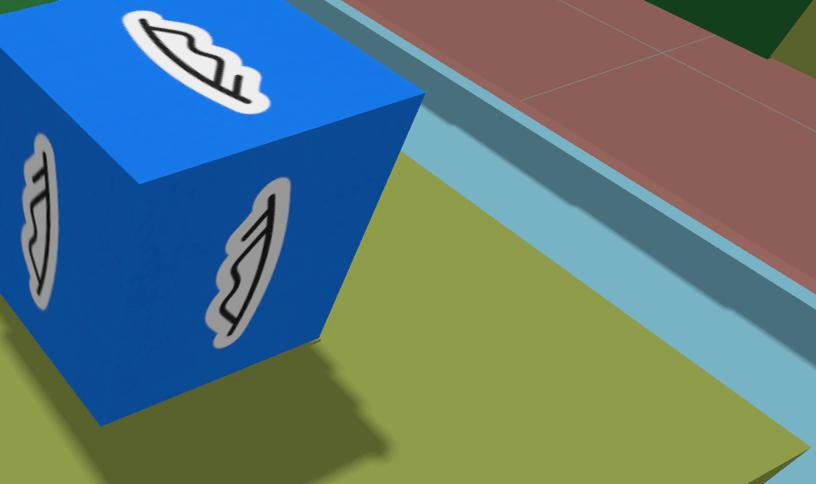KFS_REAL: (0, 0, 422, 424), (122, 10, 269, 113), (206, 178, 290, 348), (20, 133, 59, 309)
